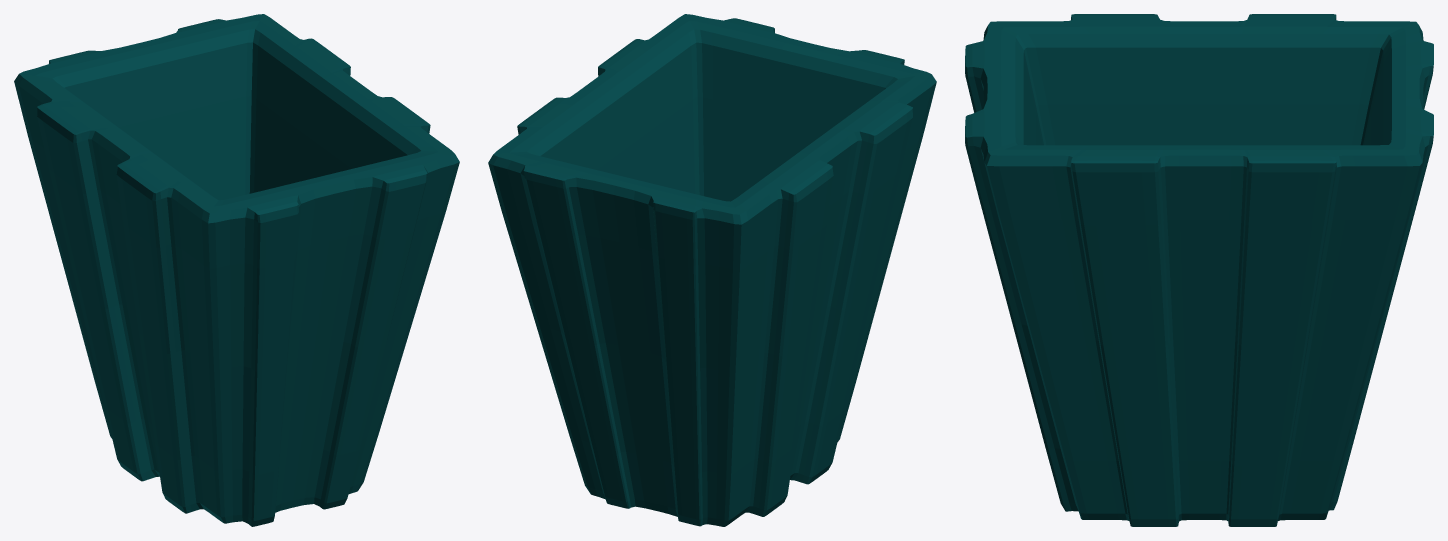
File: Trash_Can.fbx
3 views of the same model, side by side, from view 1: azimuth 30°, elevation 25°; view 2: azimuth 150°, elevation 25°; view 3: azimuth 270°, elevation 25° (orthographic). The views are drawn at different scales.
Parts seen in each view (by area): view 1: Cube.006; view 2: Cube.006; view 3: Cube.006.
Boxes of the visible parts, bbox=[...] form: Cube.006: bbox=[14, 14, 459, 526]; Cube.006: bbox=[488, 14, 936, 526]; Cube.006: bbox=[965, 14, 1433, 526].
Size of the model in its own units: 69.95 by 85.99 by 91.74.
